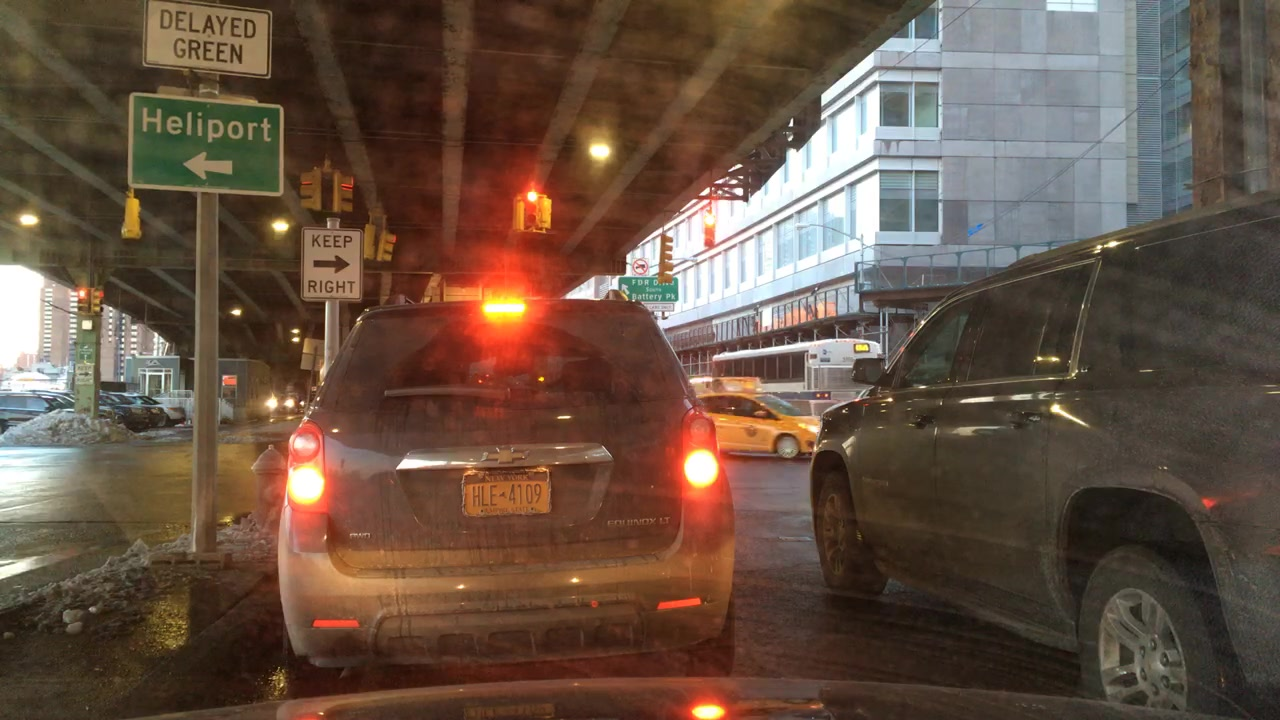licence: (461, 465, 553, 517)
